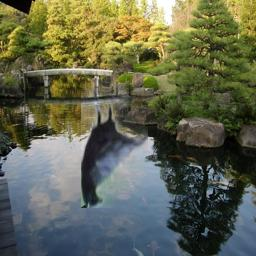Crow: (81, 78, 148, 208)
